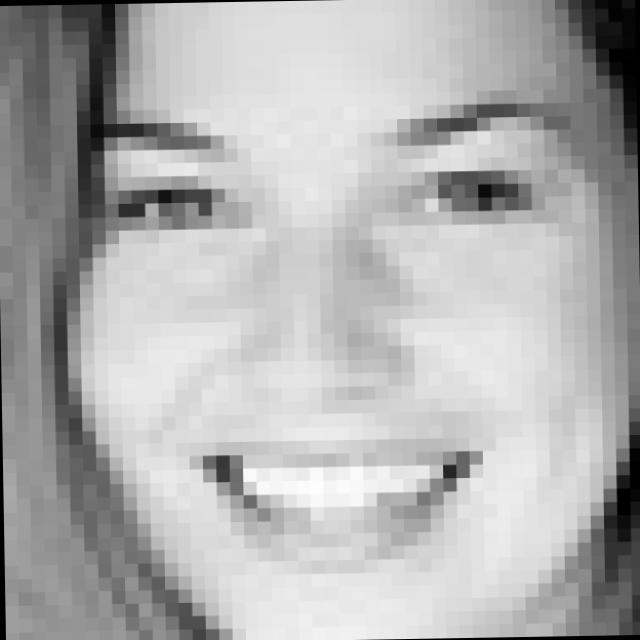happy: (98, 93, 600, 586)
